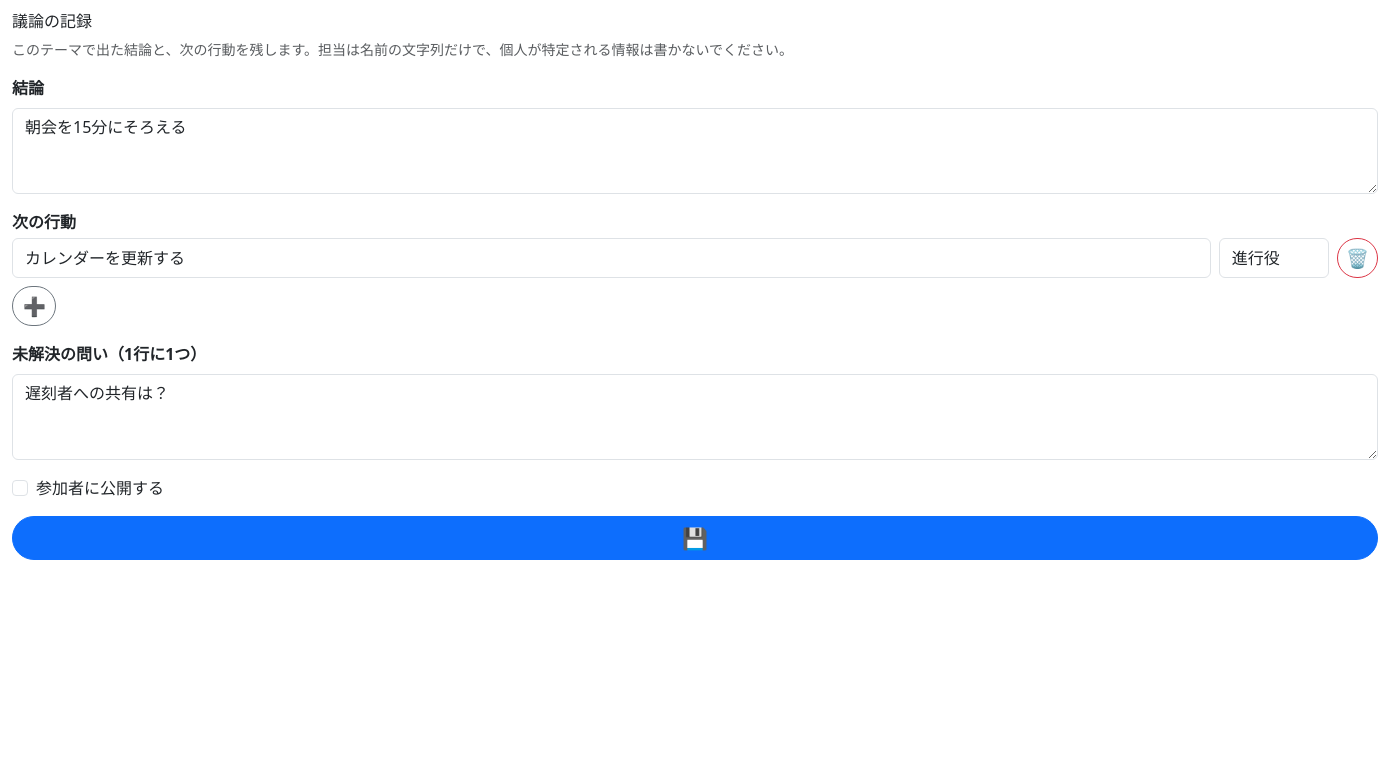
it: NotesEditor › 公開にチェックして保存すると、公開した旨を出す
The width and height of the screenshot is (1390, 780).
Expected: the text box labelled "結論" holds "朝会を15分にそろえる", [12, 108, 1378, 194]
What coordinates should you click on to do the following:
click the checkbox labelled "参加者に公開する"
I would click on:
 (20, 488)
Its box is [12, 480, 28, 496].
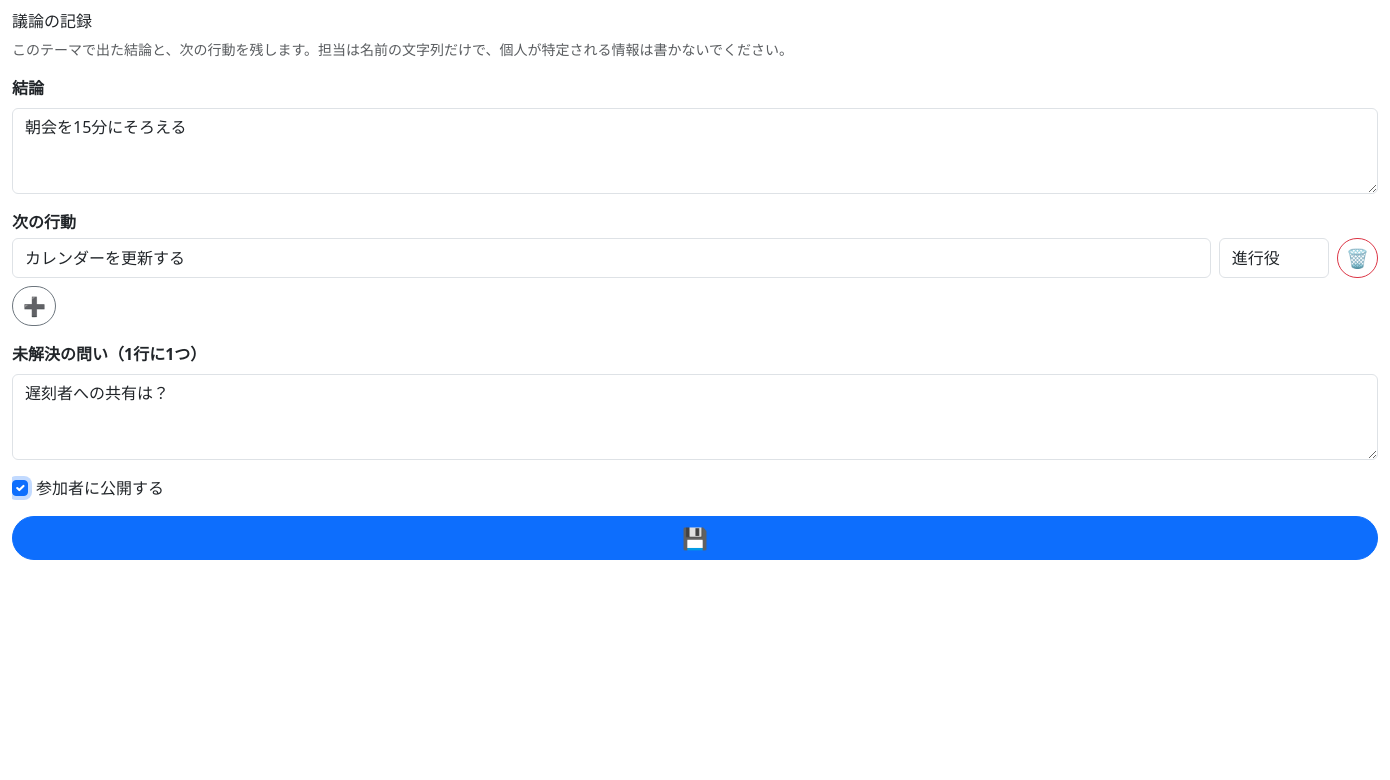
What coordinates should you click on to do the following:
click the button named "記録を保存する"
I would click on:
 (695, 538)
Its box is [12, 516, 1378, 560].
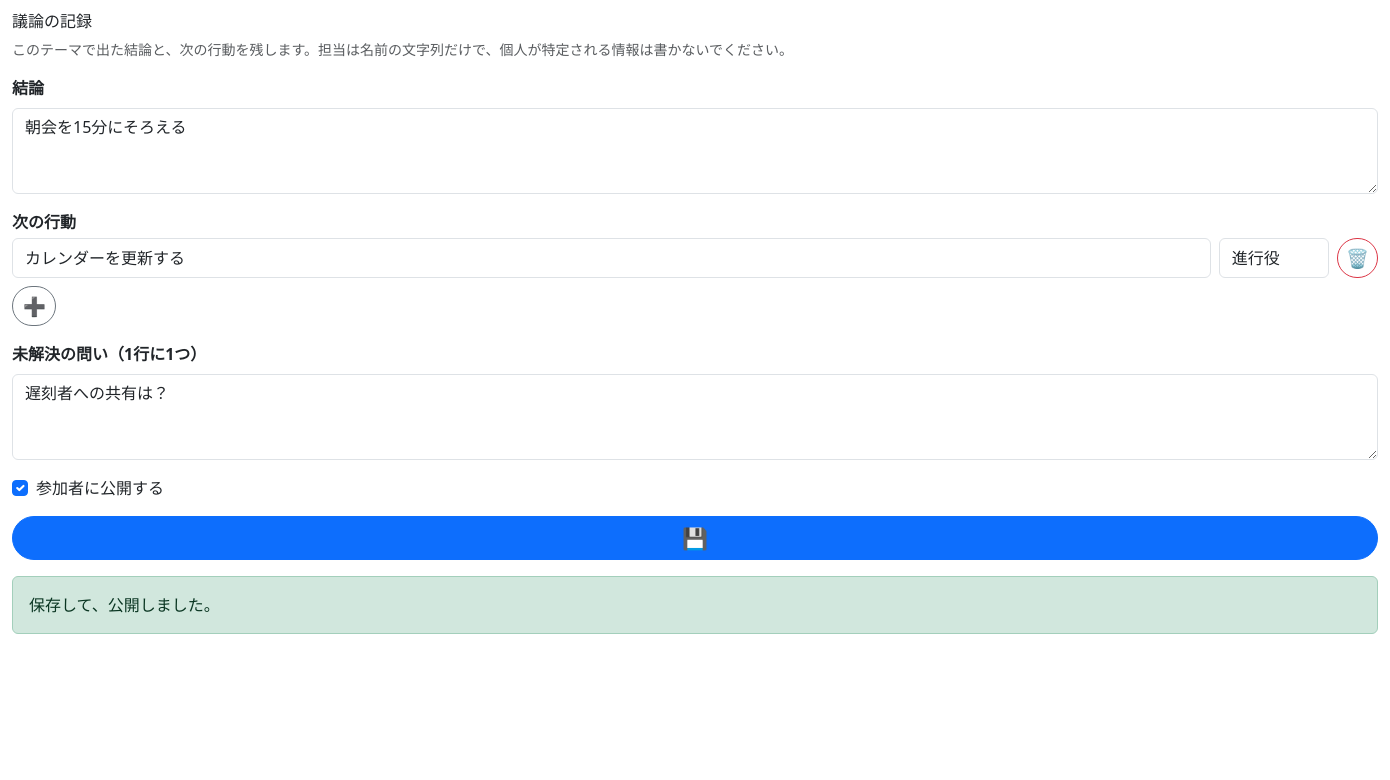
Expected: the text "保存して、公開しました。" is shown, [12, 576, 1378, 634]
